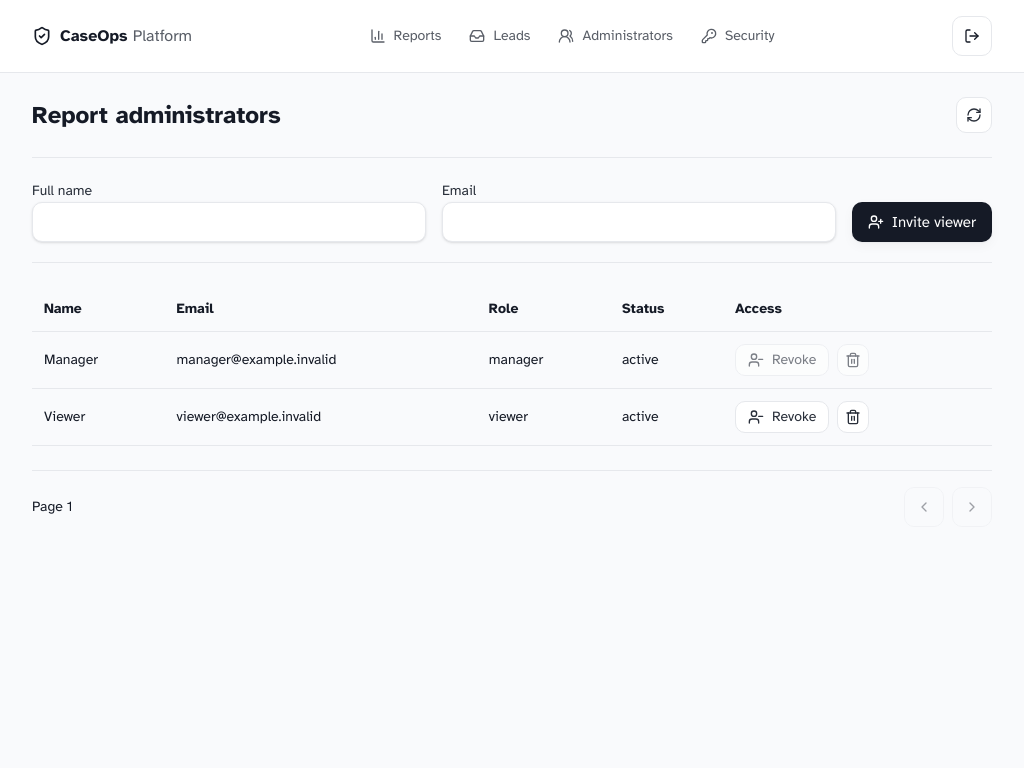
explicit report administrator management › confirms deletion against the observed version and reloads the retained directory
The width and height of the screenshot is (1024, 768).
Check: the text "viewer@example.invalid" is shown, box [165,388,477,446]
Click the button named "Delete report access for Viewer" at (853, 417), box [837,401,869,433]
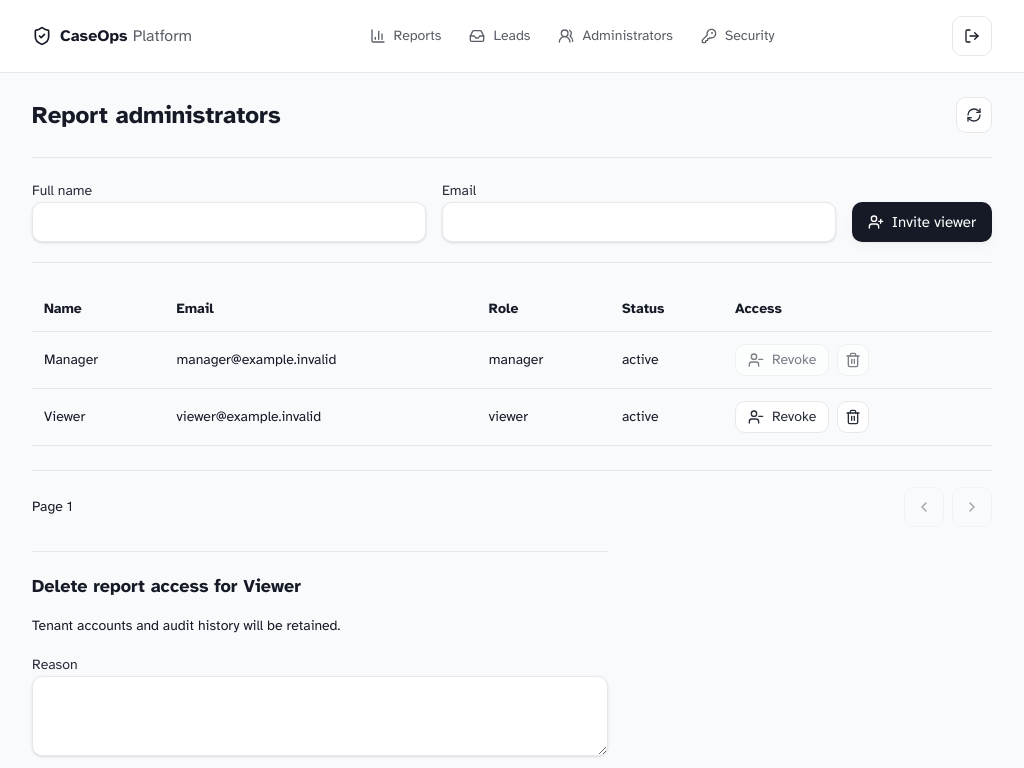
Type "Remove report-only access" into the text box labelled "Reason" at (320, 716), box [32,676,608,756]
(page scrolled)
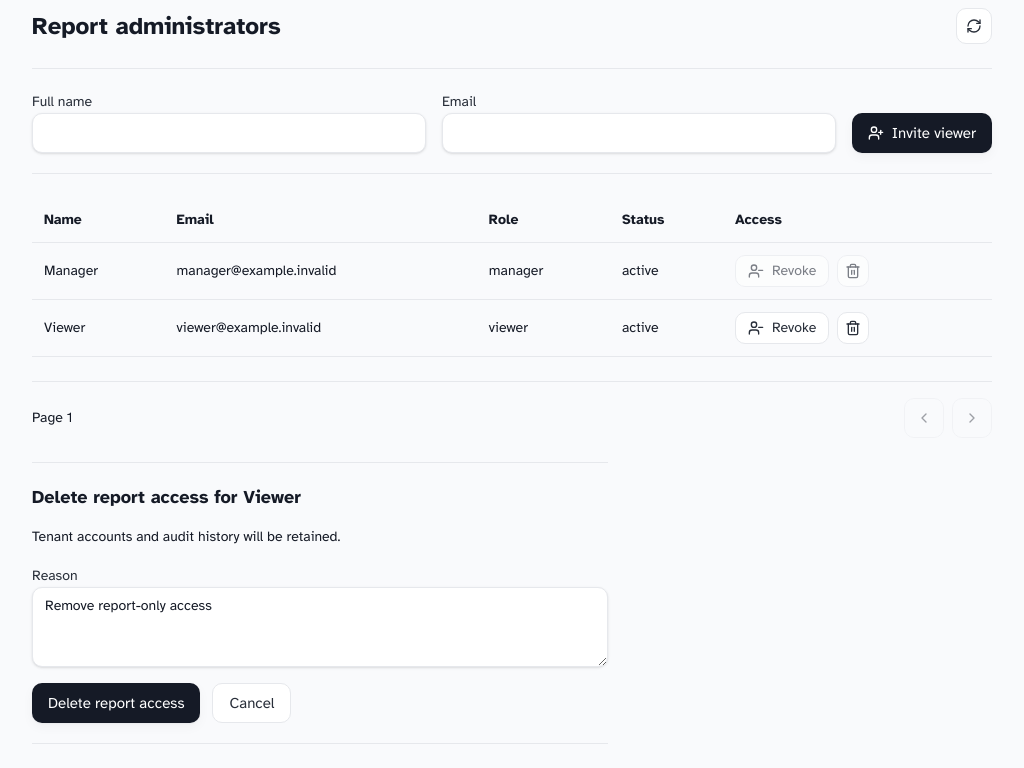
Submit the form named "Delete administrator access", box [32,462,608,744]
(page scrolled)
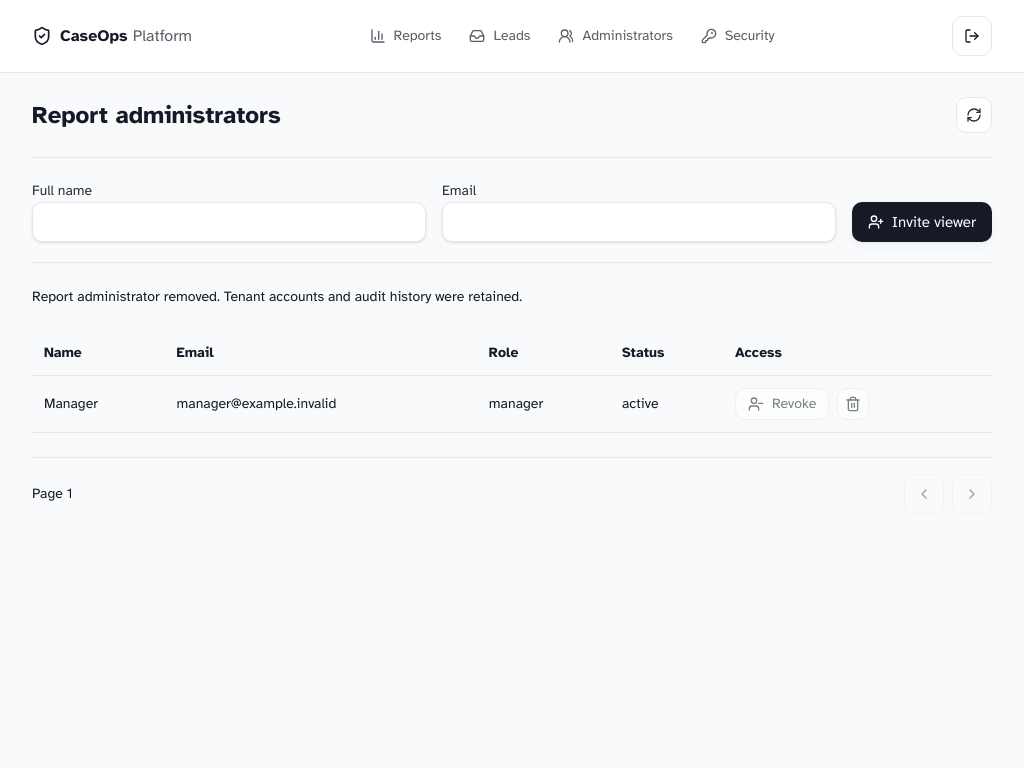
Check: the text "viewer@example.invalid" is gone
Check: the message shows "Tenant accounts and audit history were retained", box [32,288,522,305]
